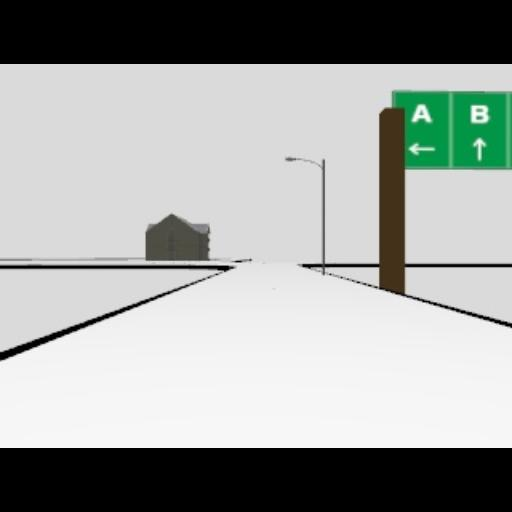A: (412, 102, 432, 124)
B: (468, 104, 488, 124)
Left: (405, 142, 435, 156)
Straight: (472, 136, 486, 160)
